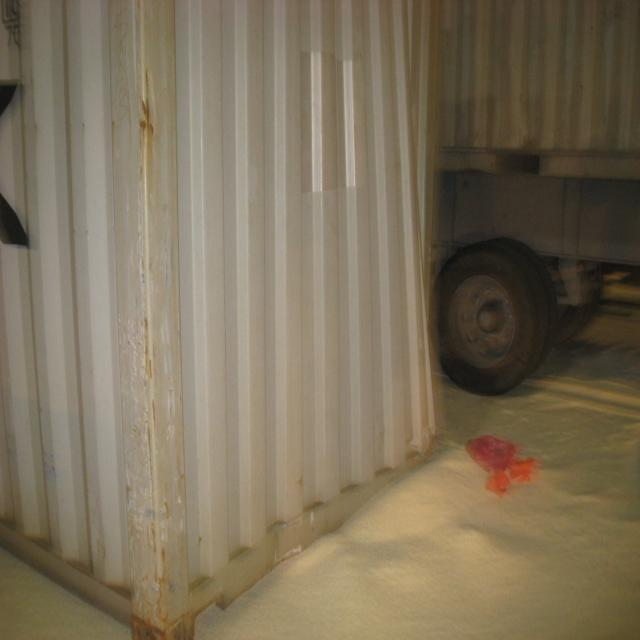rust: (135, 300, 178, 632), (130, 71, 159, 207)
